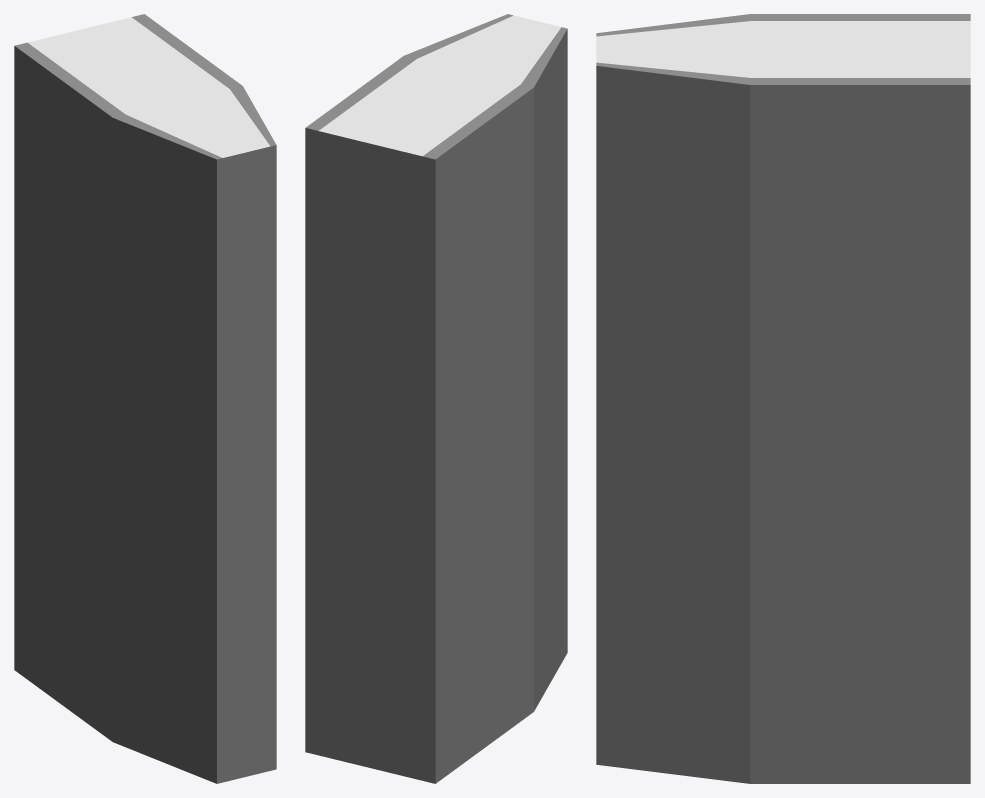
The model's file is startchunk.fbx.
3 views of the same model, side by side, from view 1: azimuth 30°, elevation 25°; view 2: azimuth 150°, elevation 25°; view 3: azimuth 270°, elevation 25° (orthographic). The views are drawn at different scales.
Visible parts, largest first — view 1: startchunk; view 2: startchunk; view 3: startchunk.
Boxes of the visible parts, x1=… form: startchunk: x1=14, y1=14, x2=276, y2=783; startchunk: x1=305, y1=14, x2=567, y2=783; startchunk: x1=596, y1=14, x2=970, y2=783.
Size of the model in its own units: 109 by 243 by 500.
